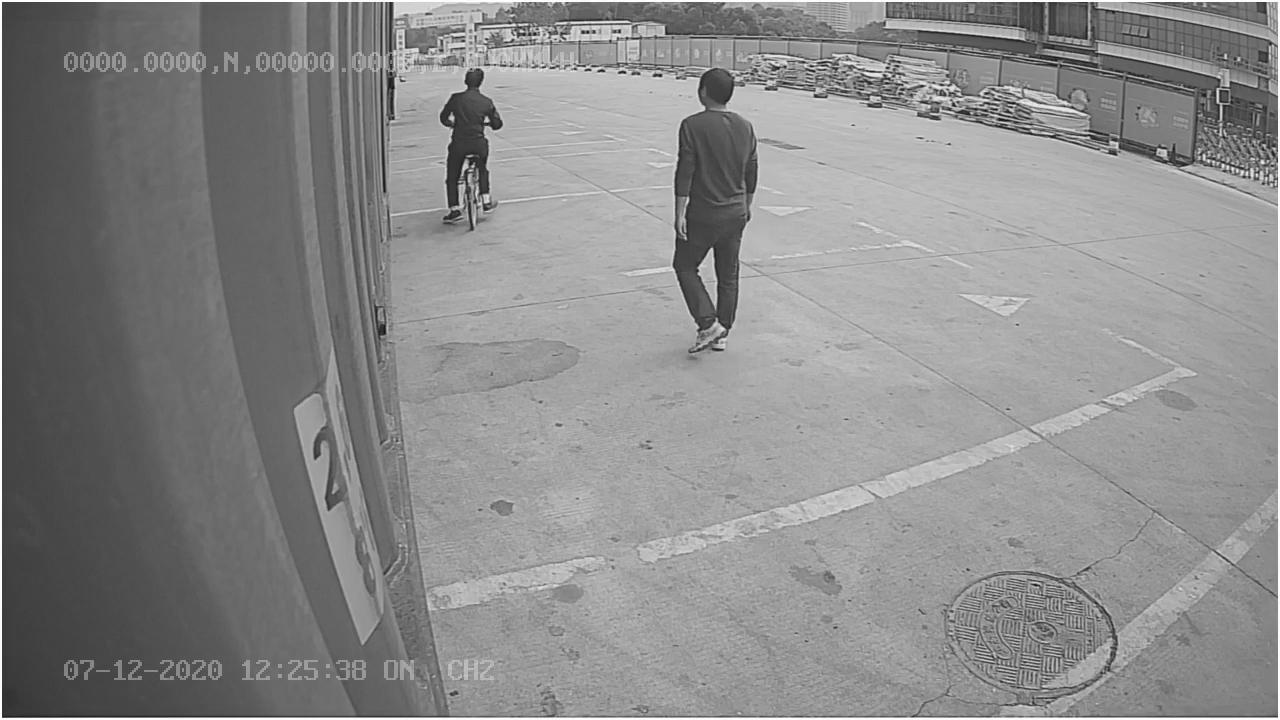person: (666, 62, 766, 365)
